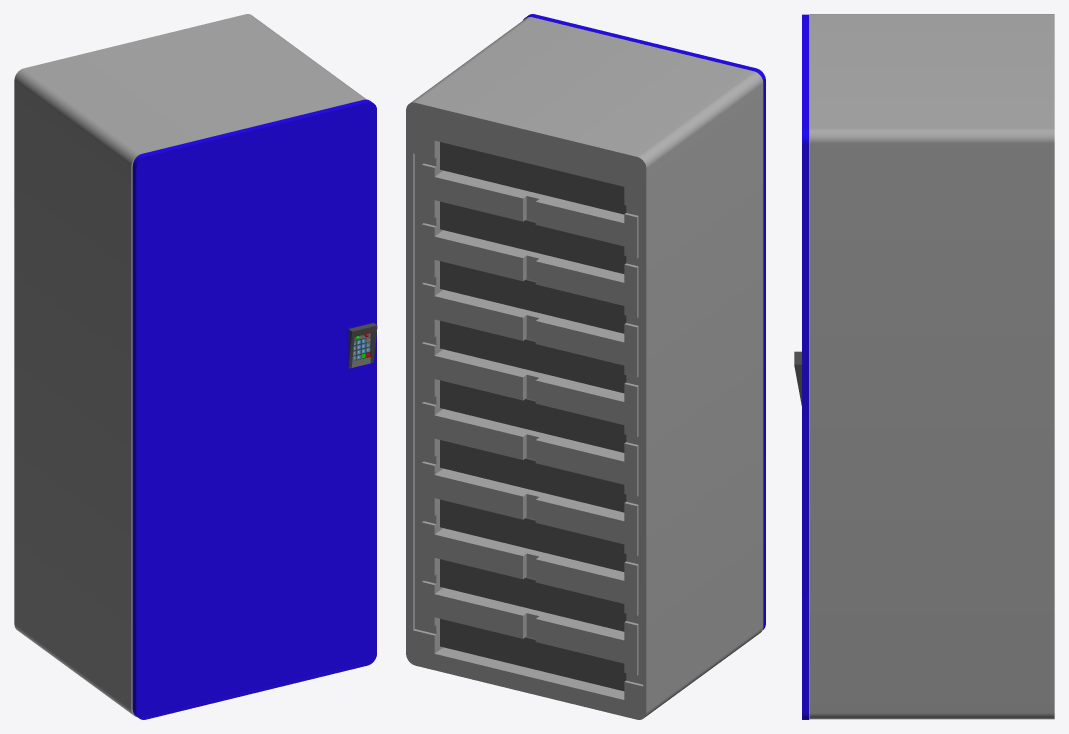
Rendered from Server-Rack-with-Keypad.dae.
The picture shows the model from 3 angles, left to right: view 1: azimuth 30°, elevation 25°; view 2: azimuth 150°, elevation 25°; view 3: azimuth 270°, elevation 25°; orthographic projection. The views are drawn at different scales.
Parts seen in each view (by area): view 1: Component_28, Component_27, Group5; view 2: Component_27, Component_1 (×9), Component_28; view 3: Component_27, Component_28.
Part boxes in pixels (x1=…): Component_28: x1=132, y1=99, x2=376, y2=719; Component_27: x1=14, y1=14, x2=366, y2=716; Group5: x1=348, y1=323, x2=377, y2=368; Component_27: x1=406, y1=17, x2=763, y2=719; Component_1 (×9): x1=440, y1=142, x2=626, y2=691; Component_28: x1=523, y1=14, x2=765, y2=629; Component_27: x1=809, y1=14, x2=1054, y2=719; Component_28: x1=802, y1=14, x2=809, y2=719.
Bounding box in the file's own units: 38.2 × 34.04 × 85.01.
Materials: 10 (2 with a texture image).
